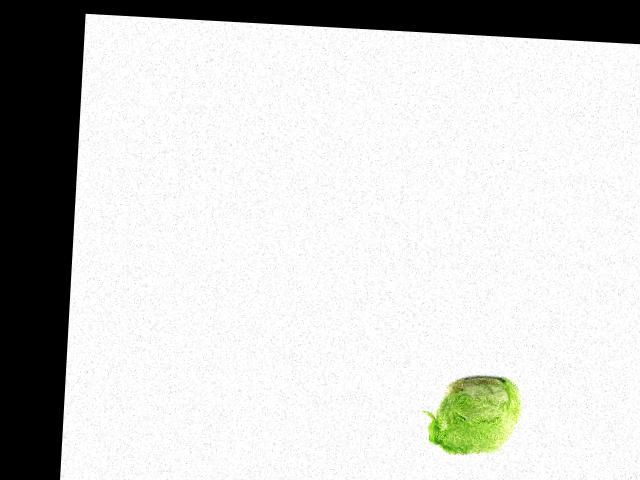lettuce: (430, 370, 525, 461)
